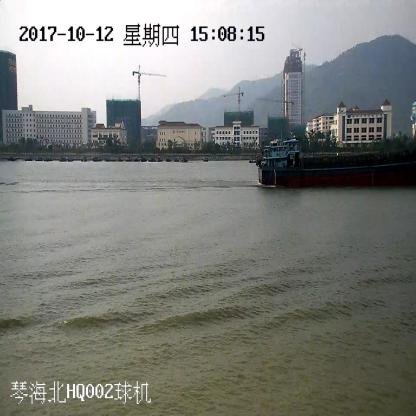Bulk Carrier: (256, 138, 416, 186)
